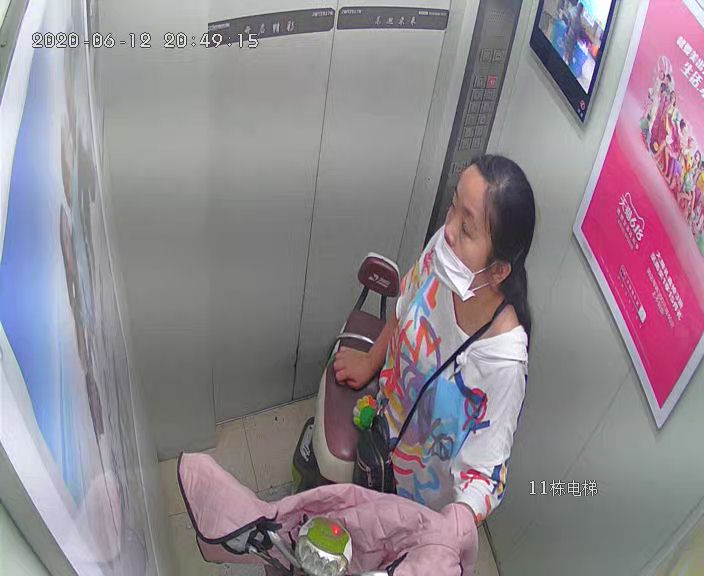Electric-bicycle: (181, 252, 468, 576)
